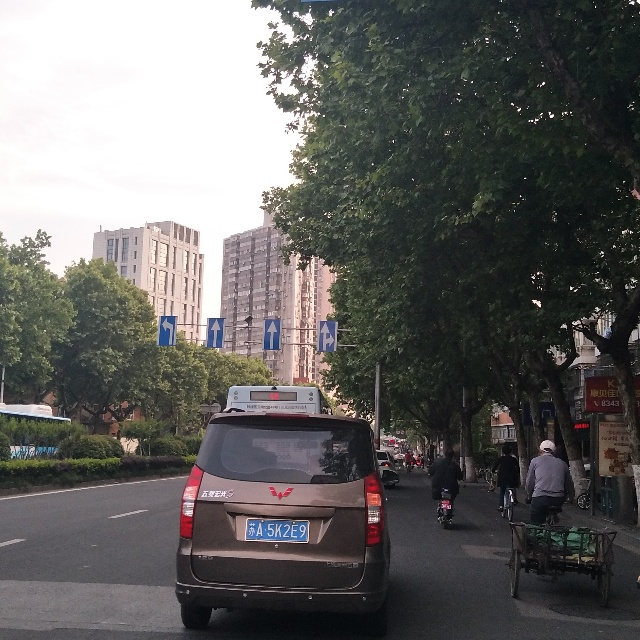left: (160, 315, 178, 348)
straight: (207, 315, 224, 352), (263, 319, 280, 349)
